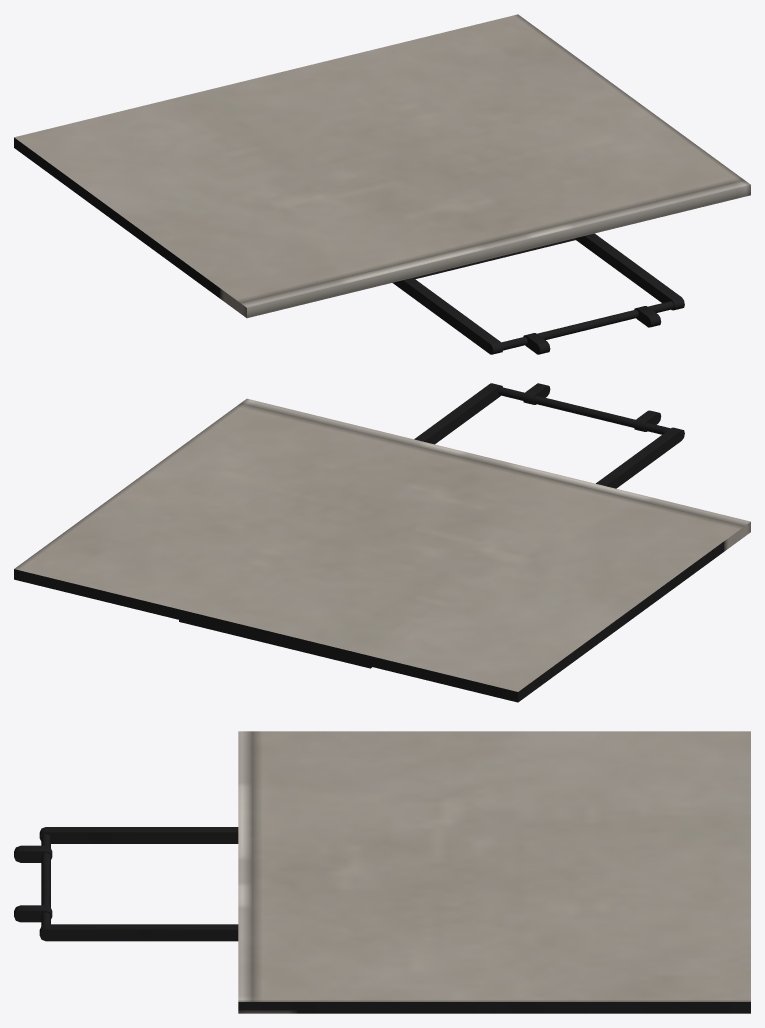
The model's file is 1f_solar_srf_1.obj.
3 views of the same model, one above another, from view 1: azimuth 30°, elevation 25°; view 2: azimuth 150°, elevation 25°; view 3: azimuth 270°, elevation 25° (orthographic). The views are drawn at different scales.
Visible parts, largest first — view 1: mesh1; view 2: mesh1; view 3: mesh1.
Boxes of the visible parts, x1,y1,x2,y2 form: mesh1: (14, 14, 750, 354); mesh1: (14, 383, 750, 702); mesh1: (14, 731, 750, 1013).
Bounding box in the file's own units: 1.25 × 0.05 × 1.44.
